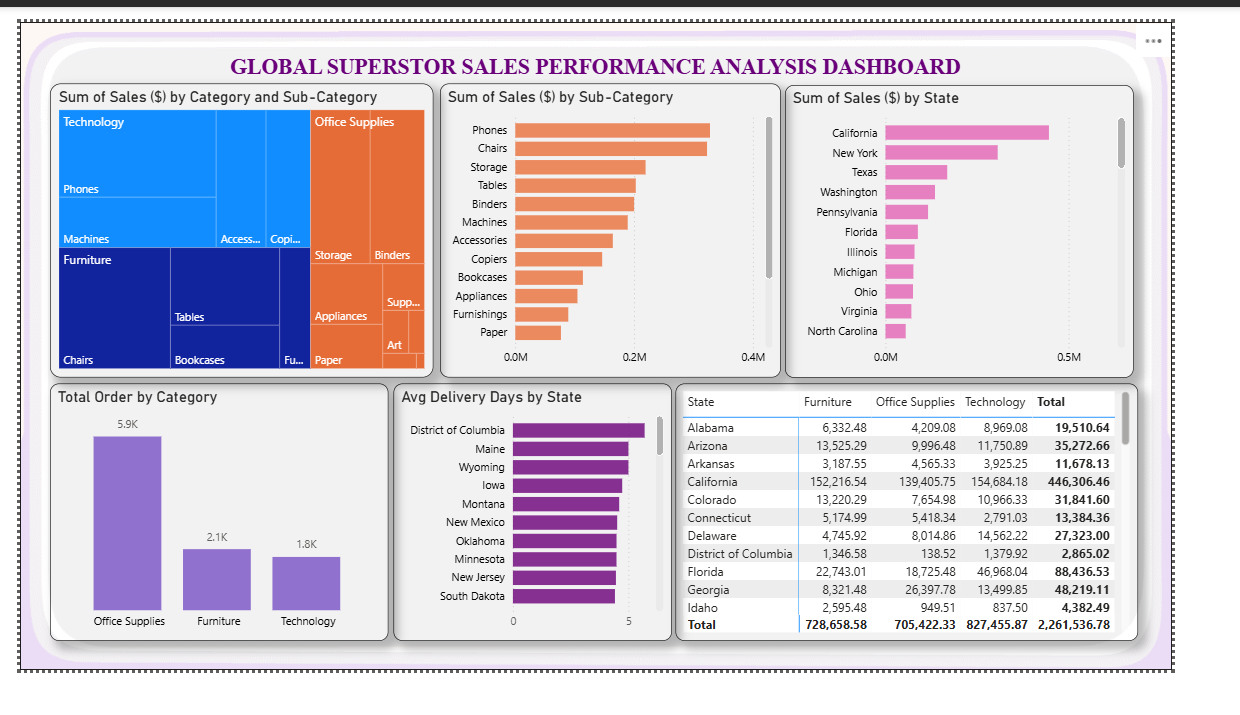

The dashboard page shown, as its layout file describes it:
{"tool":"powerbi","page":{"name":"Category and State","canvas":[1280,720],"ordinal":3},"visuals":[{"type":"image","box":[0,0,1280.1,720.6],"z":0},{"type":"treemap","fields":{"Group":["Train.Category"],"Details":["Train.Sub-Category"],"Values":["Sum(Train.Sales ($))"]},"box":[34.2,68.3,426.2,326.9],"z":1000},{"type":"textbox","box":[135,29.3,1008.5,39],"z":2000},{"type":"barChart","fields":{"Category":["Train.Sub-Category"],"Y":["Sum(Train.Sales ($))"]},"box":[466.8,68.3,379,326.9],"z":3000},{"type":"columnChart","fields":{"Category":["Train.Category"],"Y":["Train.Total Order"]},"box":[34.2,401.8,375.7,286.3],"z":4000},{"type":"barChart","fields":{"Category":["Train.State"],"Y":["Sum(Train.Sales ($))"]},"box":[850.7,69.9,387.1,325.3],"z":5000},{"type":"pivotTable","fields":{"Rows":["Train.State"],"Columns":["Train.Category"],"Values":["Sum(Train.Sales ($))"]},"box":[728.7,401.8,514,286.3],"z":6000},{"type":"barChart","fields":{"Category":["Train.State"],"Y":["Train.Avg Delivery Days"]},"box":[414.8,401.8,309,286.3],"z":7000}]}

Visuals, with their boxes in screenshot pixels (x1, y1, x2, y2), scaled from the page's 1280x720 canvas onto the 1240x715 screenshot:
image: l=0, t=0, r=1239, b=714
treemap - Train.Category x Train.Sub-Category: l=33, t=68, r=446, b=392
textbox: l=131, t=29, r=1108, b=68
barChart - Train.Sub-Category x Sum(Train.Sales ($)): l=452, t=68, r=819, b=392
columnChart - Train.Category x Train.Total Order: l=33, t=399, r=397, b=683
barChart - Train.State x Sum(Train.Sales ($)): l=824, t=69, r=1199, b=392
pivotTable - Train.State x Train.Category: l=706, t=399, r=1204, b=683
barChart - Train.State x Train.Avg Delivery Days: l=402, t=399, r=701, b=683
